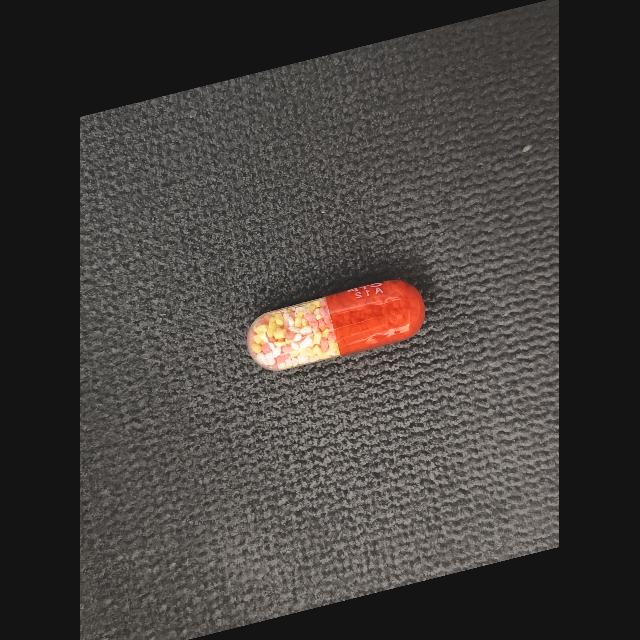Intact Capsule: (247, 280, 426, 371)
